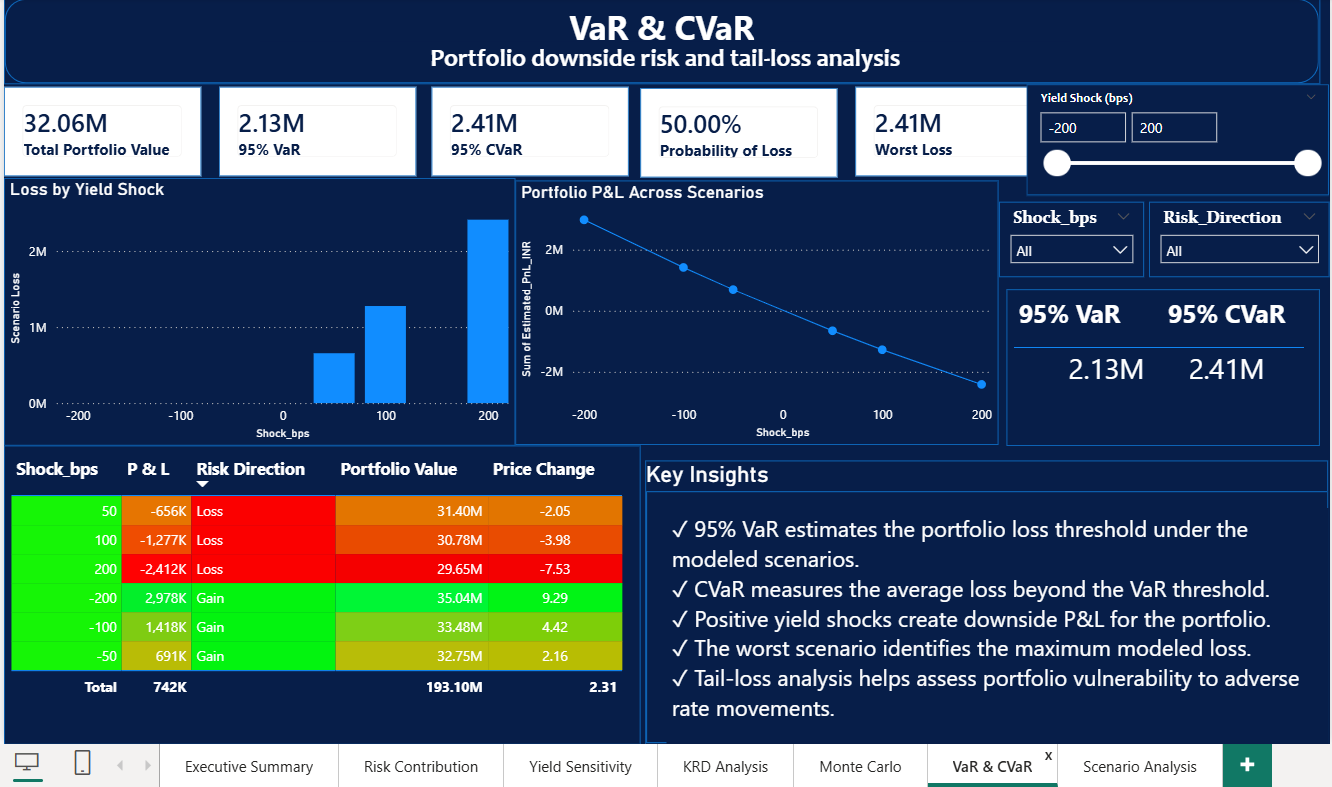

The page's visual inventory and layout, read from the dashboard file:
{"tool":"powerbi","page":{"name":"VaR & CVaR","canvas":[1280,720],"ordinal":5},"visuals":[{"type":"shape","box":[0,0,1270.2,83.5],"z":0},{"type":"textbox","title":"Portfolio downside risk and tail-loss analysis","box":[247.4,42.6,781.7,36.2],"z":1000},{"type":"lineChart","title":"Portfolio P&L Across Scenarios","fields":{"Category":["Scenario Summary.Shock_bps"],"Y":["Sum(Scenario Summary.Estimated_PnL_INR)"]},"box":[493.3,176.5,466.5,255.3],"z":2000},{"type":"cardVisual","fields":{"Data":["Portfolio Summary.Total Portfolio Value"]},"box":[0,85.1,190.7,86.7],"z":3000},{"type":"cardVisual","fields":{"Data":["Portfolio Summary.95% VaR"]},"box":[208,85.1,190.7,86.7],"z":4000},{"type":"cardVisual","fields":{"Data":["Portfolio Summary.Worst Scenario Loss"]},"box":[821.1,85.1,190.7,86.7],"z":5000},{"type":"cardVisual","fields":{"Data":["Portfolio Summary.Probability of Loss"]},"box":[614.6,86.7,190.7,86.7],"z":6000},{"type":"cardVisual","fields":{"Data":["Portfolio Summary.95% CVaR"]},"box":[412.9,85.1,190.7,86.7],"z":7000},{"type":"clusteredColumnChart","title":"Loss by Yield Shock","fields":{"Category":["Scenario Summary.Shock_bps"],"Y":["Portfolio Summary.Scenario Loss"]},"box":[0,173.4,493.3,258.5],"z":8000},{"type":"tableEx","title":"Loss by Yield Shock","fields":{"Values":["Portfolio Summary.95% VaR","Portfolio Summary.95% CVaR"]},"box":[967.7,280.5,302.6,151.3],"z":9000},{"type":"tableEx","title":"Price Change Across Scenarios","fields":{"Values":["Scenario Summary.Shock_bps","Sum(Scenario Summary.Estimated_PnL_INR)","Scenario Summary.Risk_Direction","Sum(Scenario Summary.Estimated_Portfolio_Value)","Sum(Scenario Summary.Estimated_Price_Change_%)"]},"box":[0,431.8,614.6,288.4],"z":10000},{"type":"slicer","fields":{"Values":["Scenario Summary.Shock_bps"]},"box":[986.6,83.5,293.1,107.2],"z":11000},{"type":"slicer","fields":{"Values":["Scenario Summary.Risk_Direction"]},"box":[1104.8,197,174.9,72.5],"z":12000},{"type":"shape","title":"Key Insights","box":[619.4,446,660.3,274.2],"z":13000},{"type":"textbox","box":[639.9,491.7,639.9,228.5],"z":14000},{"type":"slicer","fields":{"Values":["Scenario Summary.Shock_bps"]},"box":[959.8,197,140.3,72.5],"z":15000}]}

Visuals, with their boxes on the page's 1280x720 design canvas (x1, y1, x2, y2). These are canvas units, not pixel positions in the 1332x787 screenshot, which may show the page scaled, cropped or inside an application window:
shape: x1=0 y1=0 x2=1270 y2=84
"Portfolio downside risk and tail-loss analysis" textbox: x1=247 y1=43 x2=1029 y2=79
"Portfolio P&L Across Scenarios" lineChart: x1=493 y1=176 x2=960 y2=432
cardVisual - Portfolio Summary.Total Portfolio Value: x1=0 y1=85 x2=191 y2=172
cardVisual - Portfolio Summary.95% VaR: x1=208 y1=85 x2=399 y2=172
cardVisual - Portfolio Summary.Worst Scenario Loss: x1=821 y1=85 x2=1012 y2=172
cardVisual - Portfolio Summary.Probability of Loss: x1=615 y1=87 x2=805 y2=173
cardVisual - Portfolio Summary.95% CVaR: x1=413 y1=85 x2=604 y2=172
"Loss by Yield Shock" clusteredColumnChart: x1=0 y1=173 x2=493 y2=432
"Loss by Yield Shock" tableEx: x1=968 y1=280 x2=1270 y2=432
"Price Change Across Scenarios" tableEx: x1=0 y1=432 x2=615 y2=720
slicer - Scenario Summary.Shock_bps: x1=987 y1=84 x2=1280 y2=191
slicer - Scenario Summary.Risk_Direction: x1=1105 y1=197 x2=1280 y2=270
"Key Insights" shape: x1=619 y1=446 x2=1280 y2=720
textbox: x1=640 y1=492 x2=1280 y2=720
slicer - Scenario Summary.Shock_bps: x1=960 y1=197 x2=1100 y2=270
